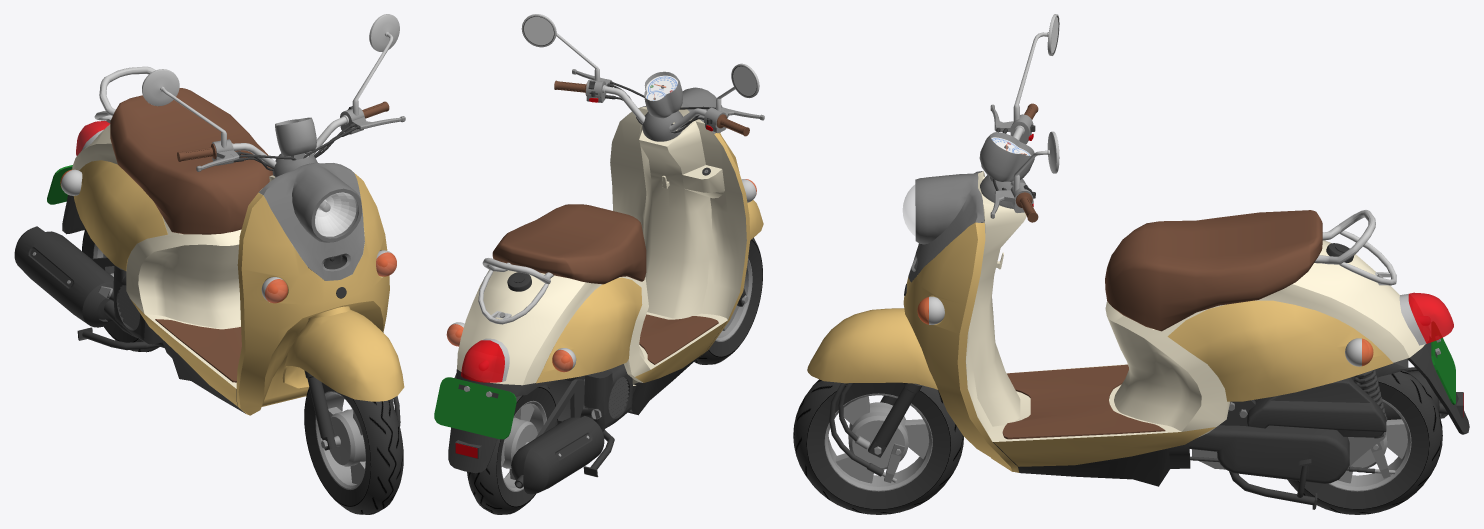
Rendered from scooter.glb.
3 views of the same model, side by side, from view 1: azimuth 30°, elevation 25°; view 2: azimuth 150°, elevation 25°; view 3: azimuth 270°, elevation 25° (orthographic). The views are drawn at different scales.
Parts seen in each view (by area): view 1: Mainbody_1, FAxleAssy_5, Frontwheel_6, EngineAssy_2, Backwheel_4, Kickstand_3, PlateAssy_0; view 2: Mainbody_1, EngineAssy_2, FAxleAssy_5, Backwheel_4, PlateAssy_0, Frontwheel_6, Kickstand_3; view 3: Mainbody_1, FAxleAssy_5, EngineAssy_2, Frontwheel_6, Backwheel_4, Kickstand_3, PlateAssy_0.
Part boxes in pixels (x1,y1,x2,y2): Mainbody_1: (60, 66, 396, 415); FAxleAssy_5: (142, 14, 405, 450); Frontwheel_6: (304, 382, 403, 514); EngineAssy_2: (14, 226, 164, 347); Backwheel_4: (82, 229, 159, 352); Kickstand_3: (77, 327, 159, 350); PlateAssy_0: (47, 165, 72, 204); Mainbody_1: (446, 87, 756, 473); EngineAssy_2: (454, 364, 632, 494); FAxleAssy_5: (521, 14, 764, 306); Backwheel_4: (467, 385, 557, 514); PlateAssy_0: (434, 377, 516, 439); Frontwheel_6: (694, 237, 762, 364); Kickstand_3: (583, 430, 614, 477); Mainbody_1: (902, 171, 1469, 486); FAxleAssy_5: (807, 14, 1059, 482); EngineAssy_2: (1189, 358, 1448, 483); Frontwheel_6: (793, 379, 963, 514); Backwheel_4: (1287, 370, 1442, 514); Kickstand_3: (1229, 459, 1317, 509); PlateAssy_0: (1431, 337, 1455, 404).
Bounding box in the file's own units: 0.7862 × 1.19 × 1.66.
Materials: 32 (2 with a texture image).
